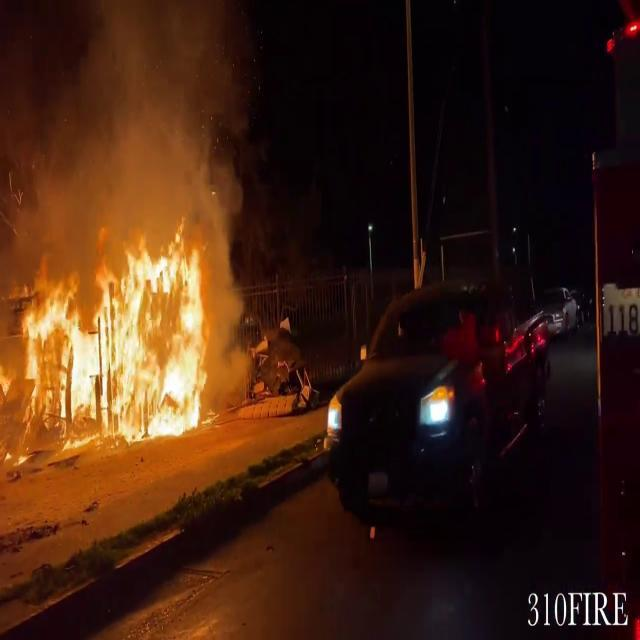Fire: (2, 202, 230, 450)
Smoke: (0, 0, 246, 239)
